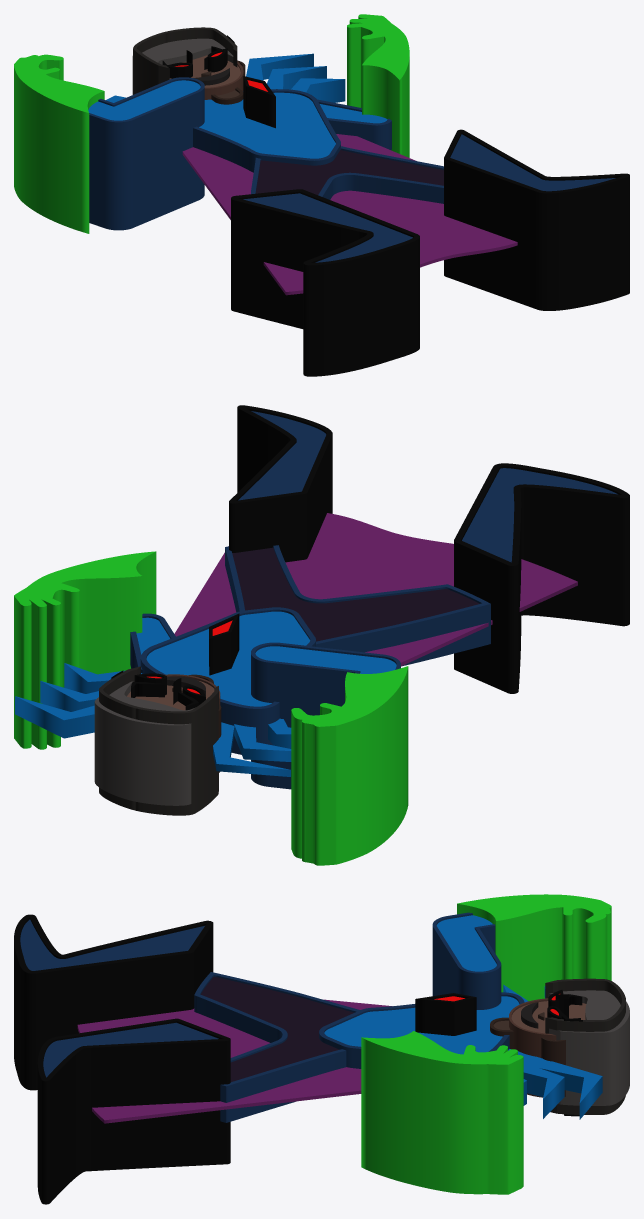
File: emoji_u1f9b9_1f3ff_200d_2642.glb
3 views of the same model, one above another, from view 1: azimuth 30°, elevation 25°; view 2: azimuth 150°, elevation 25°; view 3: azimuth 270°, elevation 25° (orthographic). The views are drawn at different scales.
Visible parts, largest first — view 1: emoji_u1f9b9_1f3ff_200d_2642; view 2: emoji_u1f9b9_1f3ff_200d_2642; view 3: emoji_u1f9b9_1f3ff_200d_2642.
Boxes of the visible parts, <box> form: emoji_u1f9b9_1f3ff_200d_2642: <box>14,14,629,376</box>; emoji_u1f9b9_1f3ff_200d_2642: <box>14,405,629,865</box>; emoji_u1f9b9_1f3ff_200d_2642: <box>14,894,629,1204</box>.
Bounding box in the file's own units: 0.0238 × 0.0078 × 0.0335.
